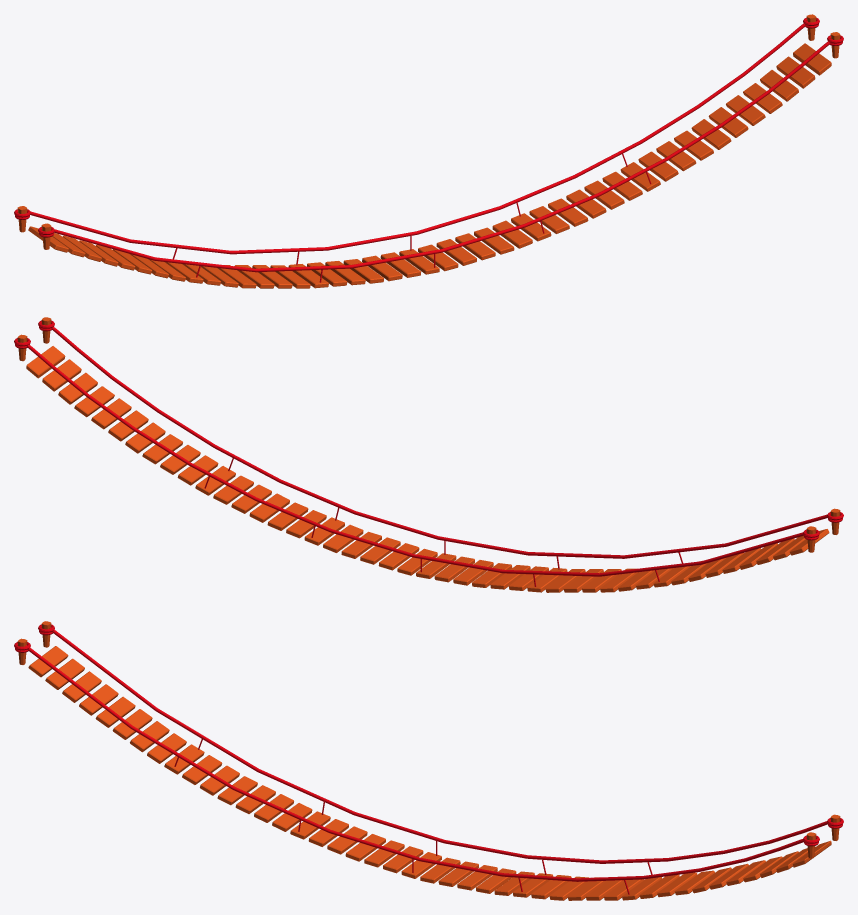
File: bridge.fbx
The picture shows the model from 3 angles, top to bottom: view 1: azimuth 30°, elevation 25°; view 2: azimuth 150°, elevation 25°; view 3: azimuth 330°, elevation 25°; orthographic projection.
Parts seen in each view (by area): view 1: Cube.003; view 2: Cube.003; view 3: Cube.003.
Part boxes in pixels (<box>): Cube.003: <box>14,14,843,288</box>; Cube.003: <box>14,317,843,592</box>; Cube.003: <box>14,621,843,900</box>.
Bounding box in the file's own units: 8703 × 1482 × 610.
